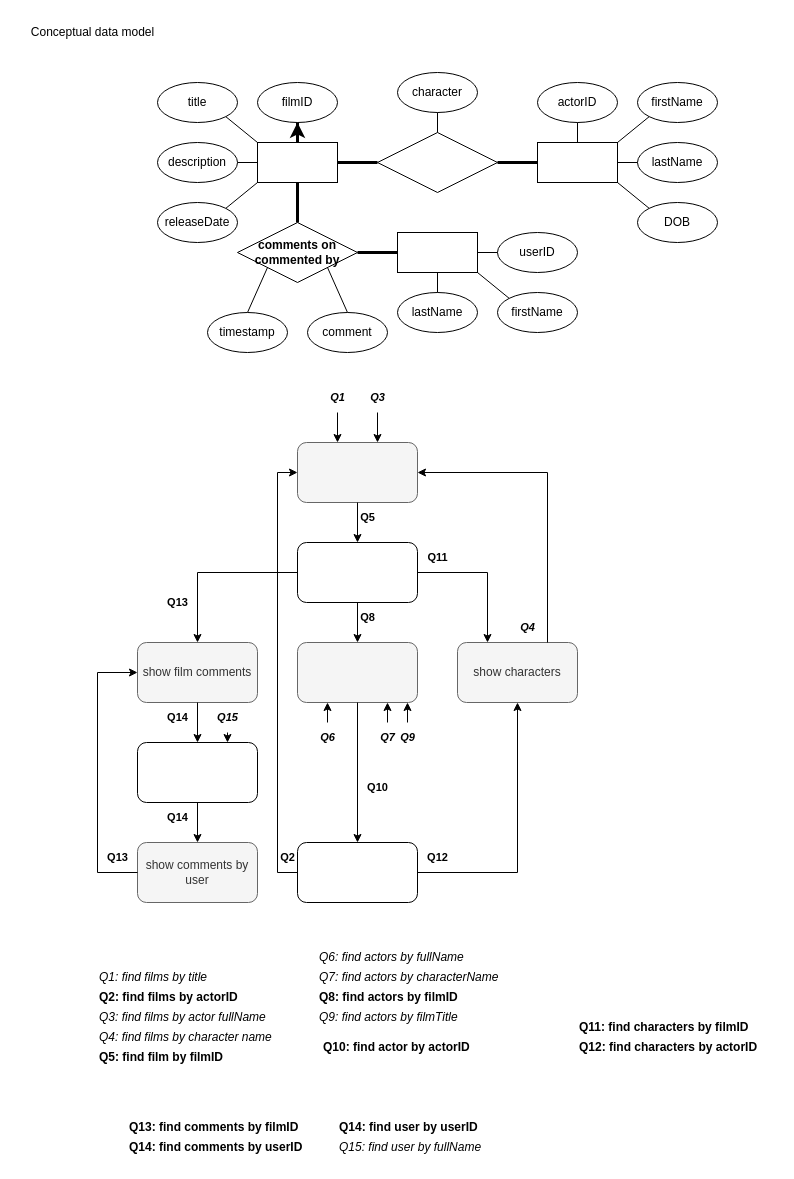
This 794x1179 diagram has some shape labels left out. Here are the shapes that lost their labels. From the top down, the centre of each, then its label:
At [297,162]: "film".
At [437,162]: "features appears in".
At [577,162]: "actor".
At [437,252]: "user".
At [357,472]: "show films".
At [357,572]: "show film details".
At [357,672]: "show actors".
At [197,772]: "show user details".
At [357,872]: "show actor info".
